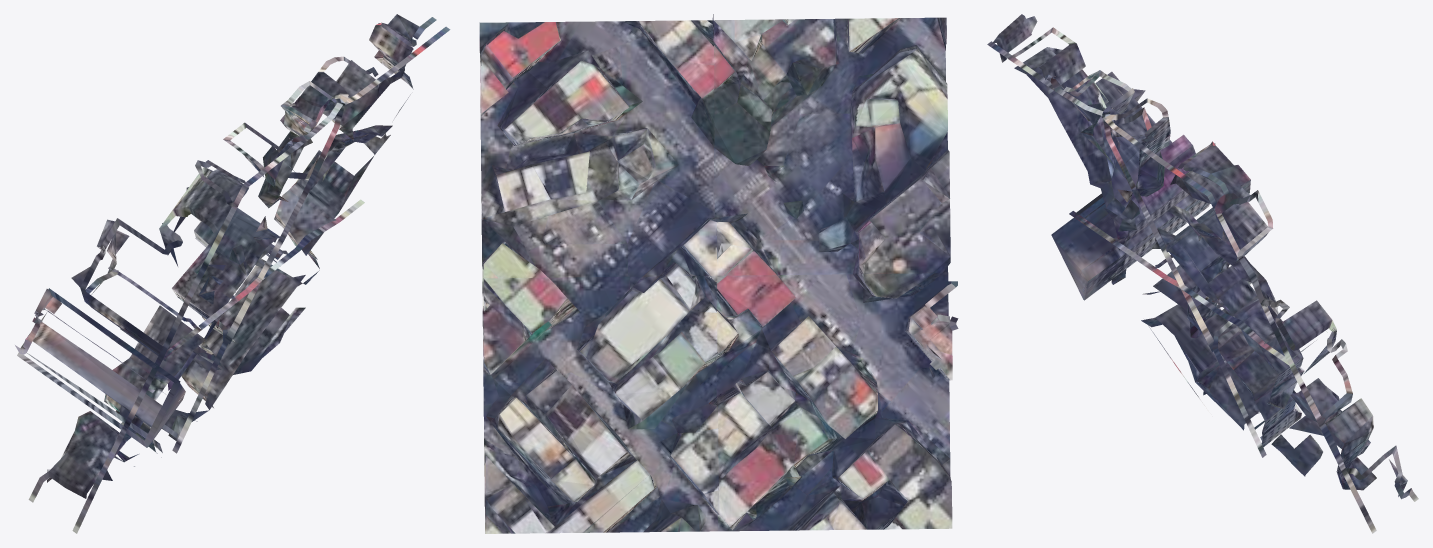
3 views of the same model, side by side, from view 1: azimuth 30°, elevation 25°; view 2: azimuth 150°, elevation 25°; view 3: azimuth 270°, elevation 25° (orthographic). The views are drawn at different scales.
Size of the model in its own units: 163 by 147 by 142.
Materials: 1 (1 with a texture image).
